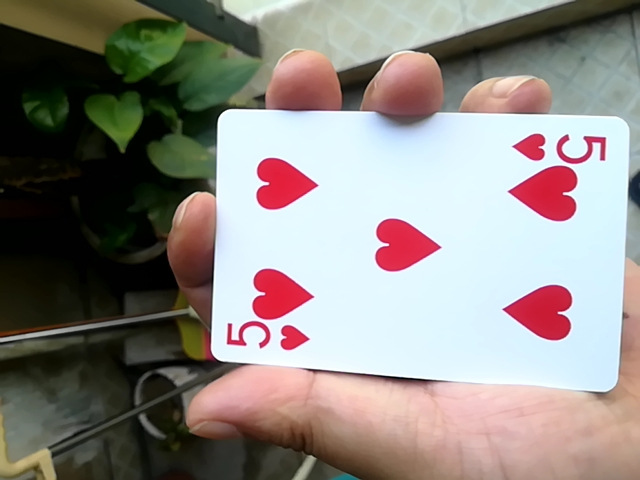hx 5: (209, 98, 635, 386)
